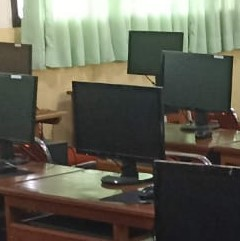monitor: (71, 81, 167, 185), (152, 160, 240, 239), (159, 50, 233, 115), (0, 73, 38, 144), (126, 30, 183, 76)
